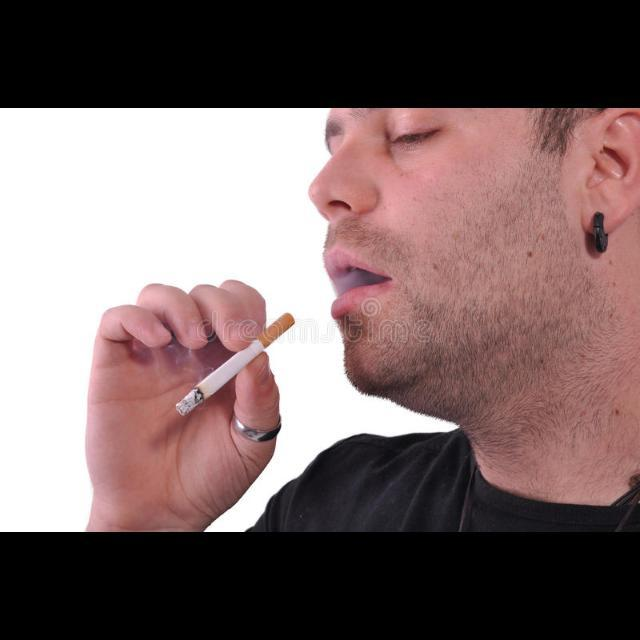rokok: (174, 311, 306, 415)
